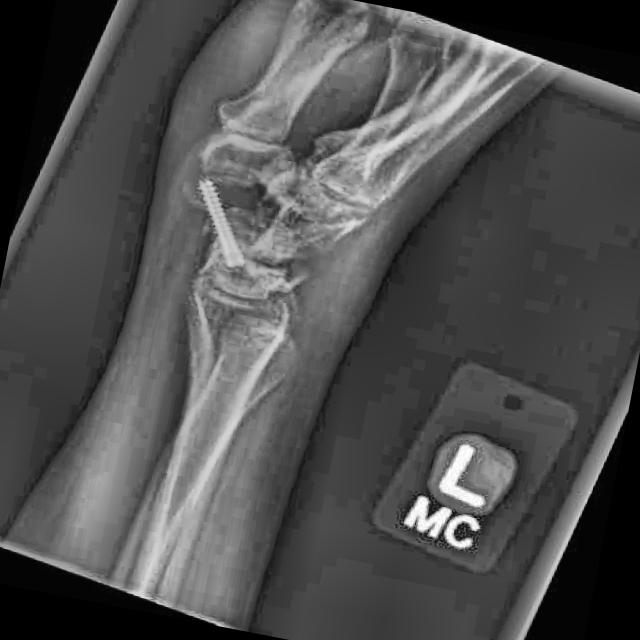wrist positive: (186, 198, 281, 246), (245, 258, 313, 291)
